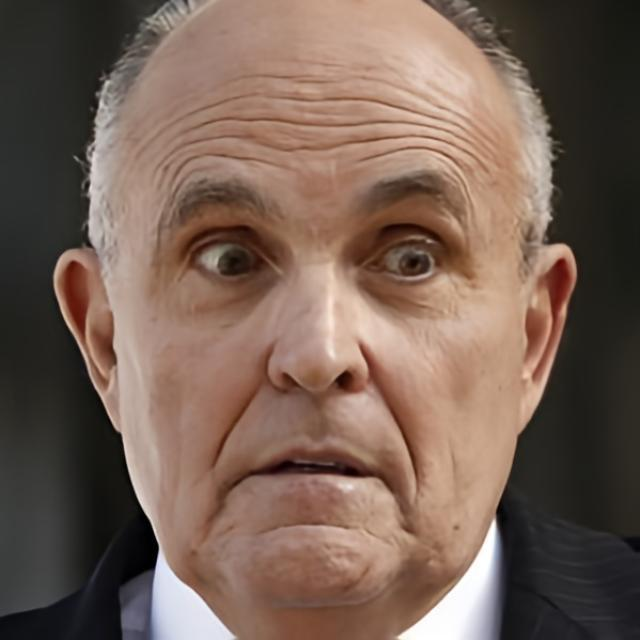fear: (122, 68, 524, 622)
